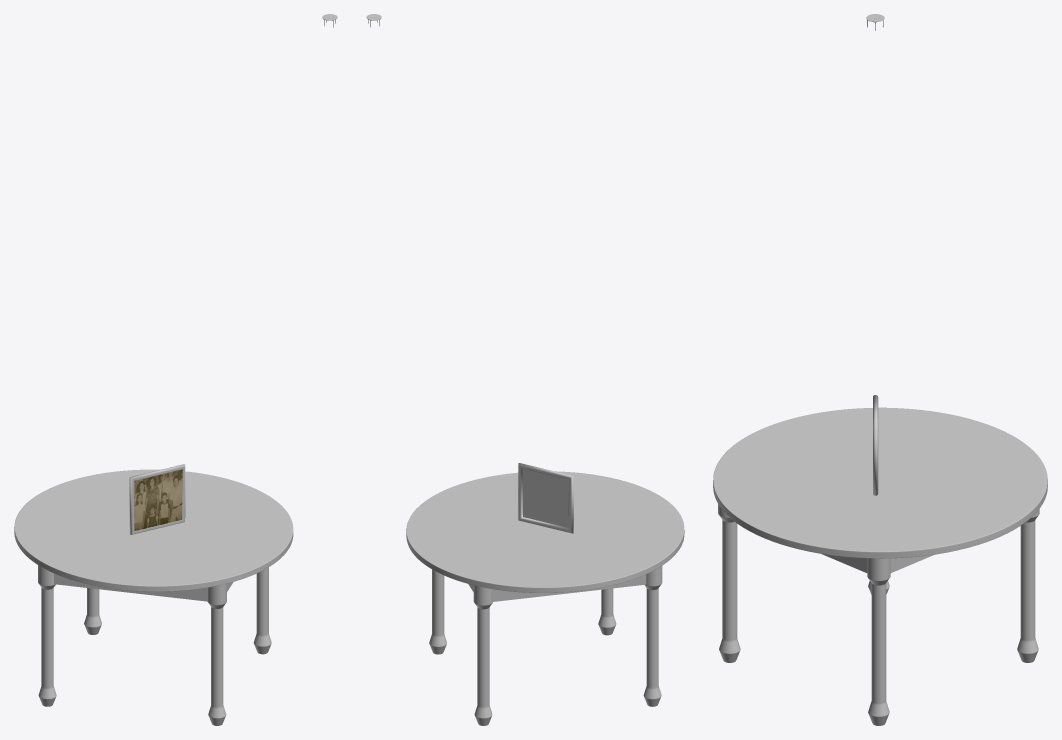
The model's file is SC2_table and photo.fbx.
3 renders of one model, left to right at view 1: azimuth 30°, elevation 25°; view 2: azimuth 150°, elevation 25°; view 3: azimuth 270°, elevation 25°, orthographic. The views are drawn at different scales.
Parts seen in each view (by area): view 1: Table, Leg, Rückseite, Ramen, Support; view 2: Table, Leg, Glas, Ramen, Support; view 3: Table, Leg, Support, Ramen.
Part boxes in pixels (x1,y1,x2,y2): Table: [14, 469, 293, 591]; Leg: [38, 565, 271, 725]; Rückseite: [134, 469, 182, 531]; Ramen: [129, 464, 185, 534]; Support: [54, 573, 233, 601]; Table: [406, 471, 684, 592]; Leg: [429, 566, 662, 725]; Glas: [522, 469, 568, 527]; Ramen: [518, 463, 573, 533]; Support: [468, 574, 646, 601]; Table: [713, 407, 1047, 558]; Leg: [718, 504, 1039, 725]; Support: [822, 554, 934, 572]; Ramen: [873, 395, 878, 495].
Size of what is drawn, in the model's own units: 2321 by 4561 by 1860.
